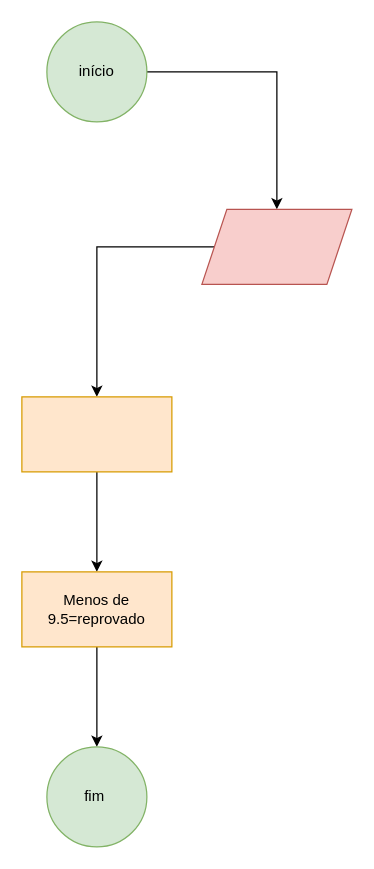
Some shapes in this 374 by 869 pixel diagram are drawn without their labels. Here are the shapes that lost their labels. From the top down, the centre of each, then its label:
At (x=276, y=246): "escala = 0 a 20".
At (x=96, y=434): "Mais de 9.5= aprovado".
